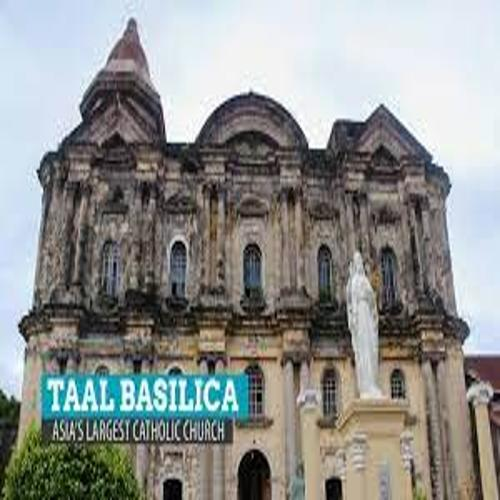Taal Basilica Church: (19, 13, 479, 500)
